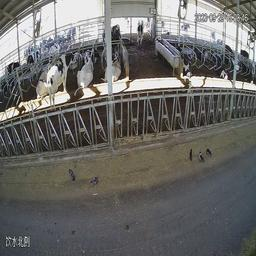cow: (48, 46, 73, 118), (175, 42, 194, 81), (75, 56, 96, 89), (33, 63, 52, 99), (105, 49, 122, 83), (211, 55, 229, 83), (4, 60, 24, 85), (25, 48, 40, 76), (135, 15, 146, 50), (219, 40, 236, 62), (46, 43, 61, 66), (68, 47, 82, 70)
